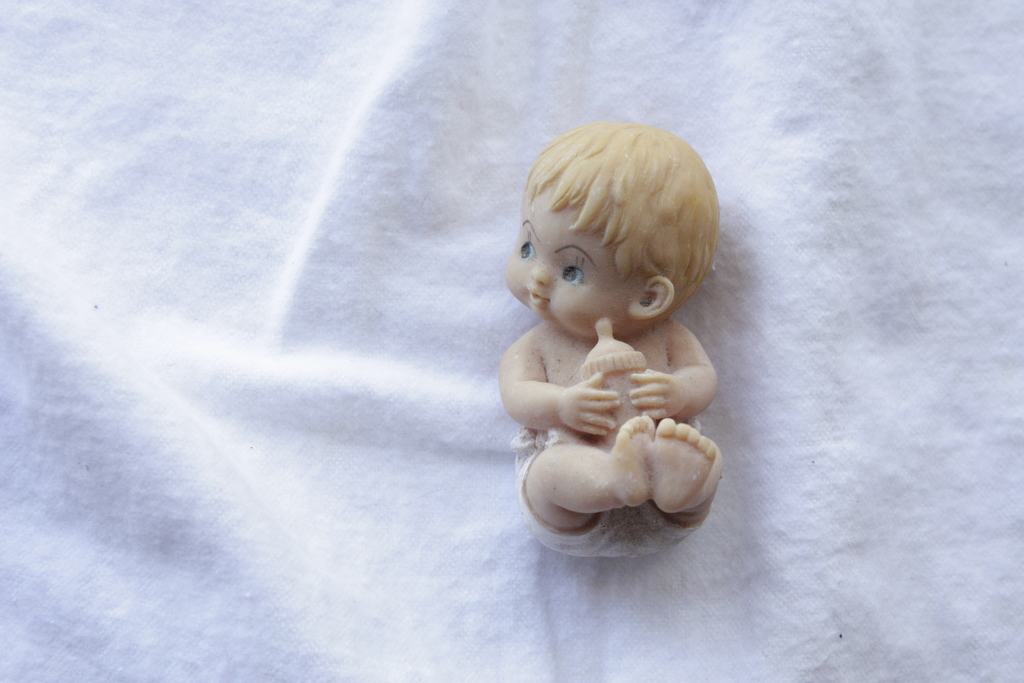Person: (498, 124, 727, 554)
